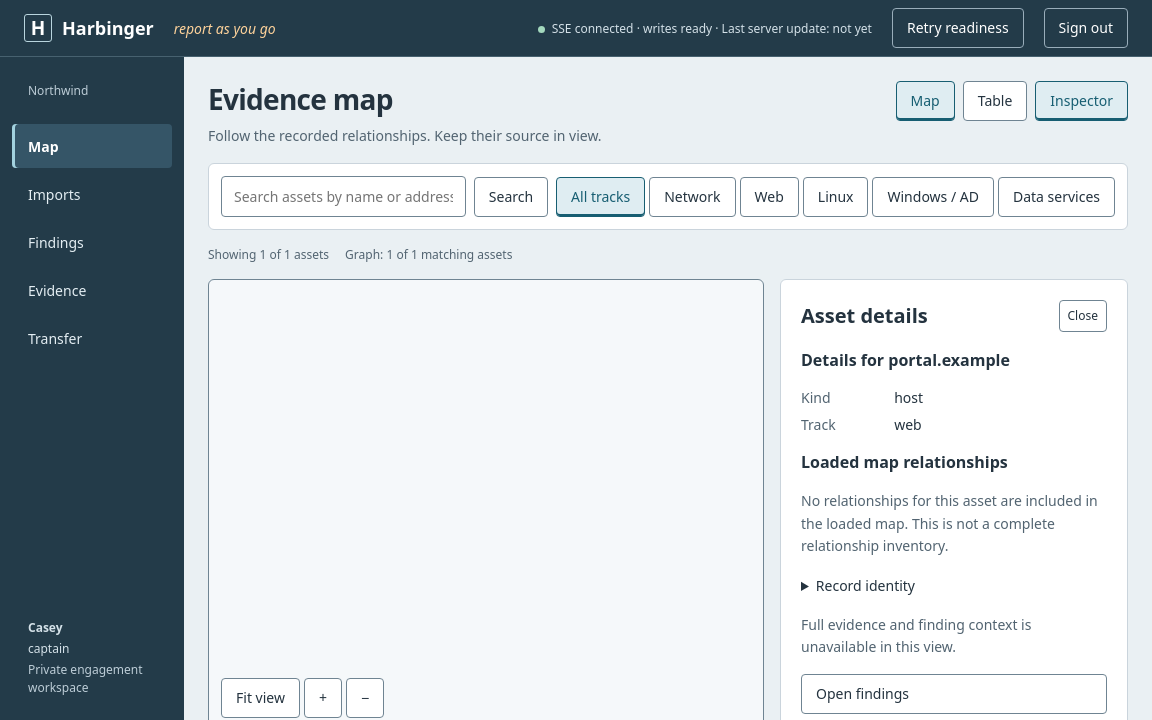
Test: Harbinger UI contract › does not show a phantom saved state after a failed finding save
Click the link "Findings" at (56, 242), box [28,233,84,252]
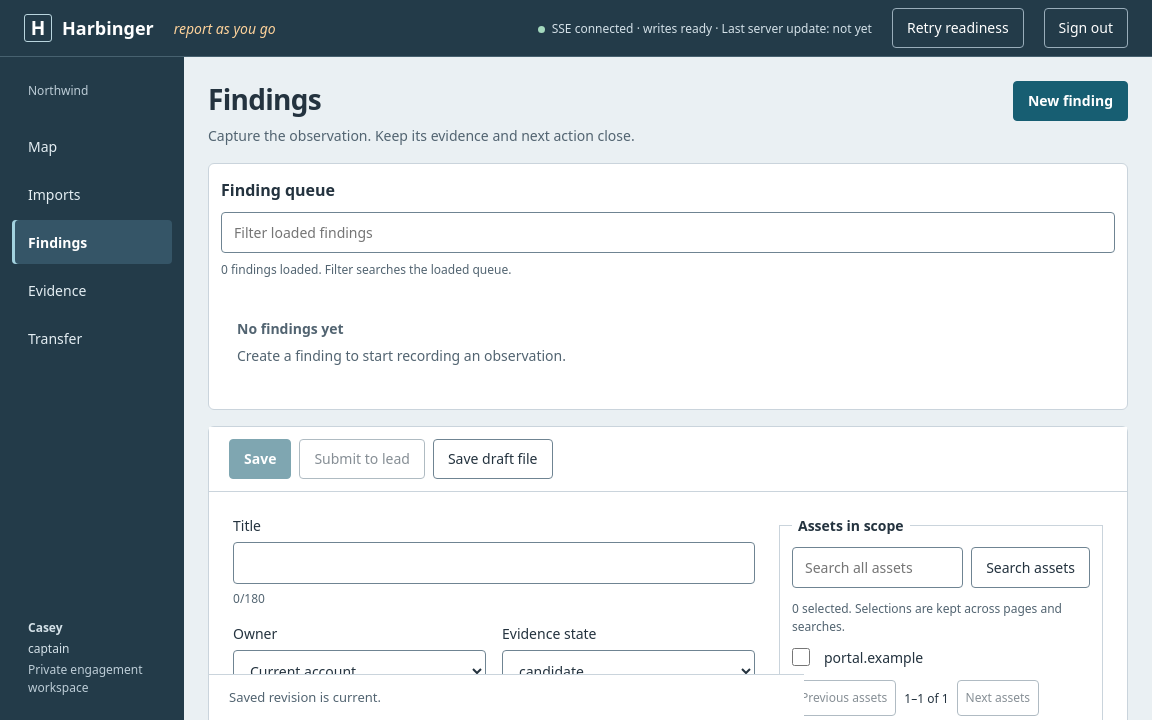
Click the button "New finding" at (1070, 101), box [1013,81,1128,121]
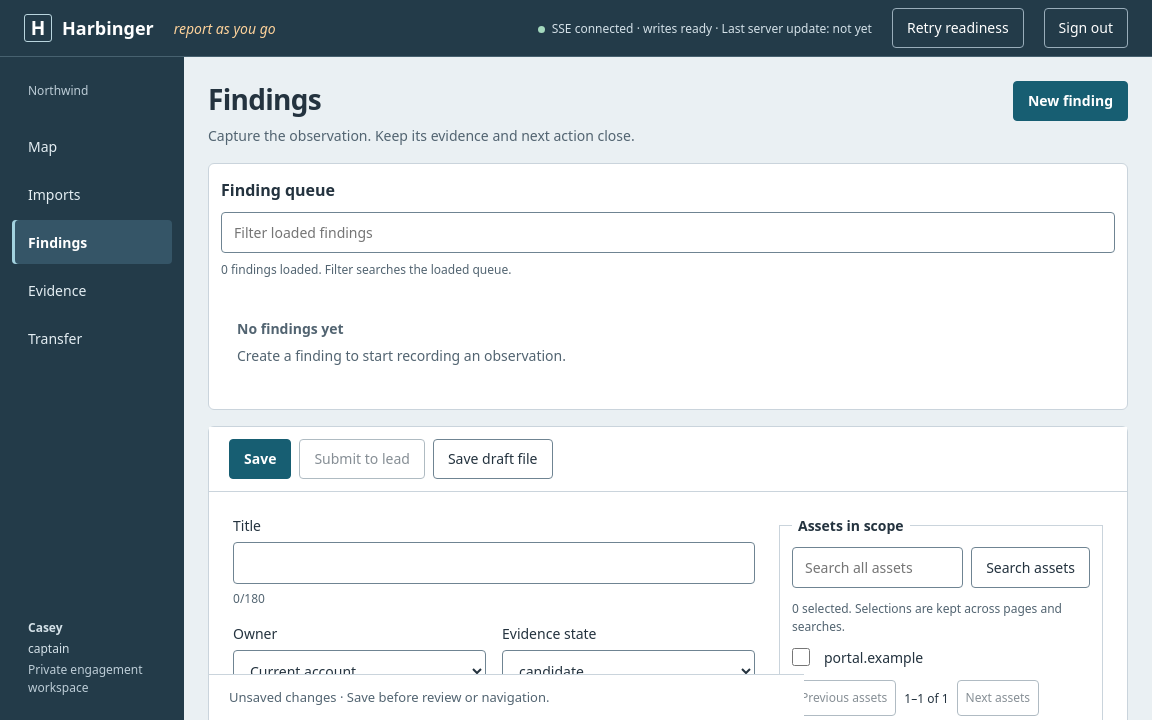
Type "Local finding" into the field labelled "Title" at (494, 563), box [233,542,755,584]
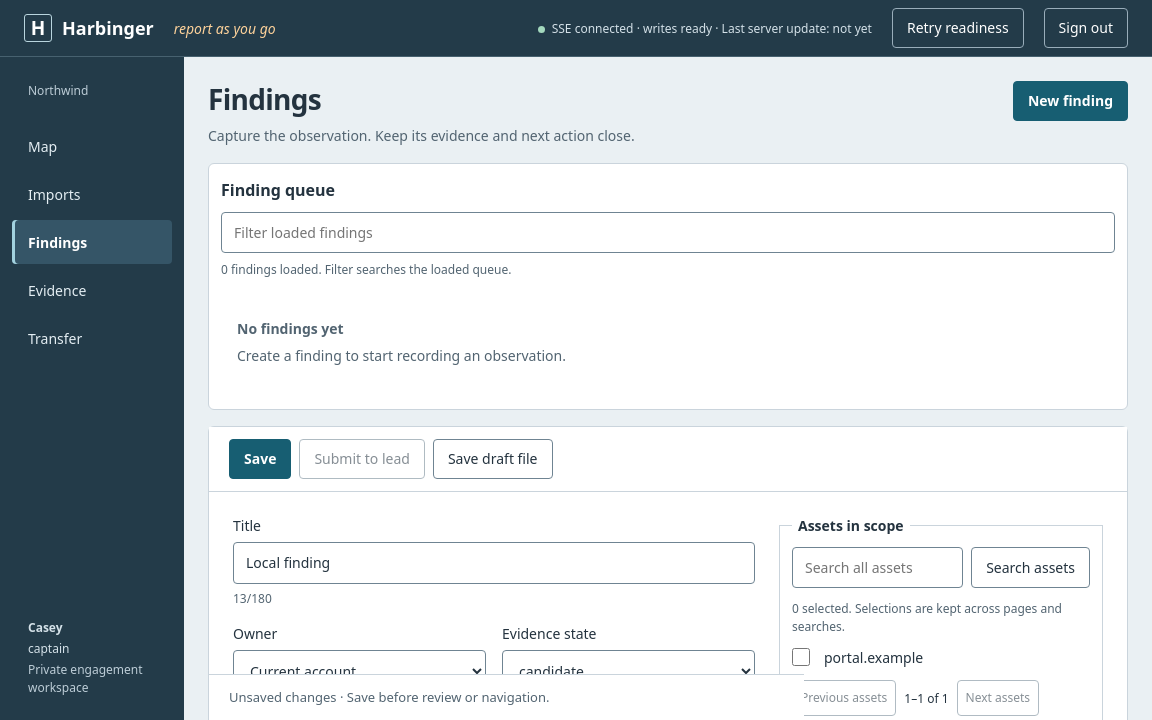
Click the button "Save" at (260, 459), box [229,439,291,479]
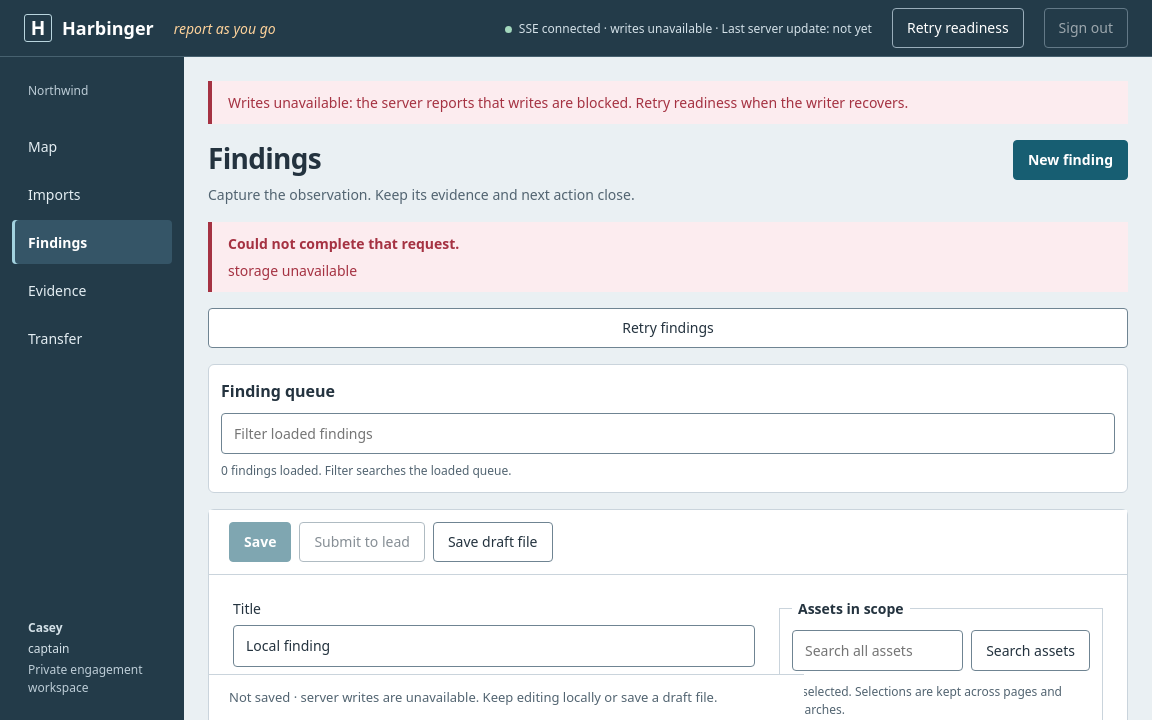
Expected: the text "Saved revision is current." is not shown
Expected: the message "Could not complete that request. storage unavailable" is shown, [208,222,1128,292]
Expected: the text "Not saved · server writes are unavailable. Keep editing locally or save a draft file." is shown, [229,688,717,706]
